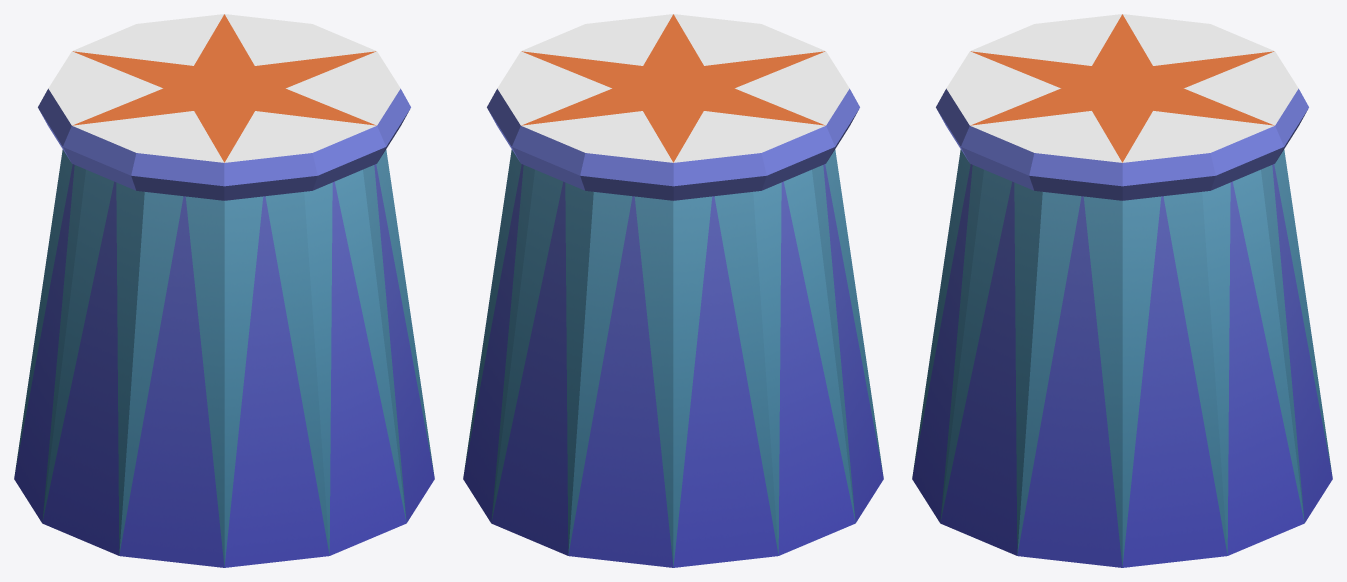
The model's file is bedside_table.fbx.
3 renders of one model, left to right at view 1: azimuth 30°, elevation 25°; view 2: azimuth 150°, elevation 25°; view 3: azimuth 270°, elevation 25°, orthographic.
Parts seen in each view (by area): view 1: Cylinder.001; view 2: Cylinder.001; view 3: Cylinder.001.
Boxes of the visible parts, x1,y1,x2,y2 form: Cylinder.001: [14, 14, 434, 567]; Cylinder.001: [463, 14, 883, 567]; Cylinder.001: [912, 14, 1332, 567].
Bounding box in the file's own units: 65.5 × 67.09 × 65.5.
